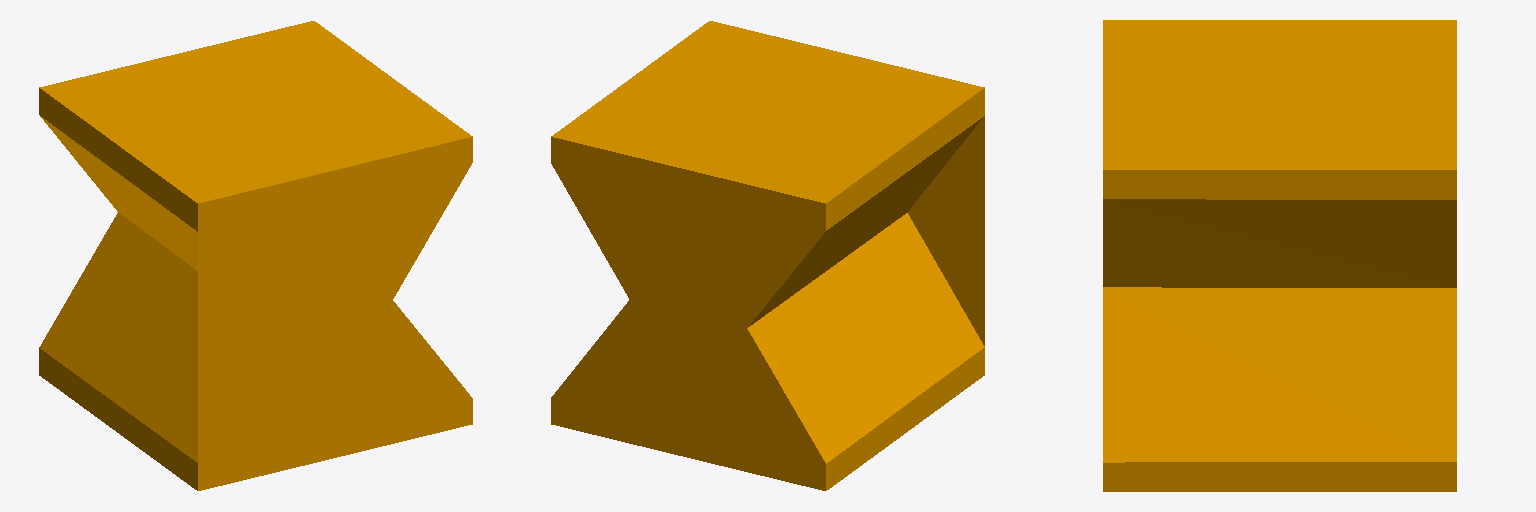
URDF robot description (object):
<?xml version="1.0"?>
<robot name="object">
  <link name="object">
    <visual>
      <origin xyz="0 0 0"/>
      <geometry>
        <mesh filename="meshes/set2/set_obj15_irregular_block_time.obj" scale=".03 .03 .03"/>
      </geometry>
    </visual>
    <collision>
  <origin xyz="0 0 0"/>
  <geometry>
    <mesh filename="meshes/set2/set_obj15_irregular_block_time_0decompose.obj" scale=".03 .03 .03"/>
<!--          <mesh filename="meshes/custom/obj0_ball.obj" scale=".05 .05 .05"/>-->
  </geometry>
</collision><collision>
  <origin xyz="0 0 0"/>
  <geometry>
    <mesh filename="meshes/set2/set_obj15_irregular_block_time_1decompose.obj" scale=".03 .03 .03"/>
<!--          <mesh filename="meshes/custom/obj0_ball.obj" scale=".05 .05 .05"/>-->
  </geometry>
</collision>

<!--    <collision>-->
<!--      <origin xyz="0 0 0"/>-->
<!--      <geometry>-->
<!--        <mesh filename="meshes/set2/set_obj15_irregular_block_time.obj" scale=".03 .03 .03"/>-->
<!--&lt;!&ndash;          <mesh filename="meshes/custom/obj0_ball.obj" scale=".05 .05 .05"/>&ndash;&gt;-->
<!--      </geometry>-->
<!--    </collision>-->
    <inertial>
      <density value="1000.0"/>
    </inertial>
  </link>
</robot>

--- Facts derived from the render (not from the file) ---
The picture shows the robot from 3 angles, left to right: view 1: azimuth 30°, elevation 25°; view 2: azimuth 150°, elevation 25°; view 3: azimuth 270°, elevation 25°; orthographic projection.
Model object with 1 links and 0 joints (none), rooted at object, posed every joint at zero.
Visible links, largest first — view 1: object; view 2: object; view 3: object.
Boxes of the visible links, x1,y1,x2,y2 form: object: (39,21,472,490); object: (551,21,984,490); object: (1103,20,1456,491).
Size in the robot's own frame: 0.06 by 0.06 by 0.06 metres.
Meshes: 1 distinct files referenced, 1 mesh visuals loaded (1 OBJ).